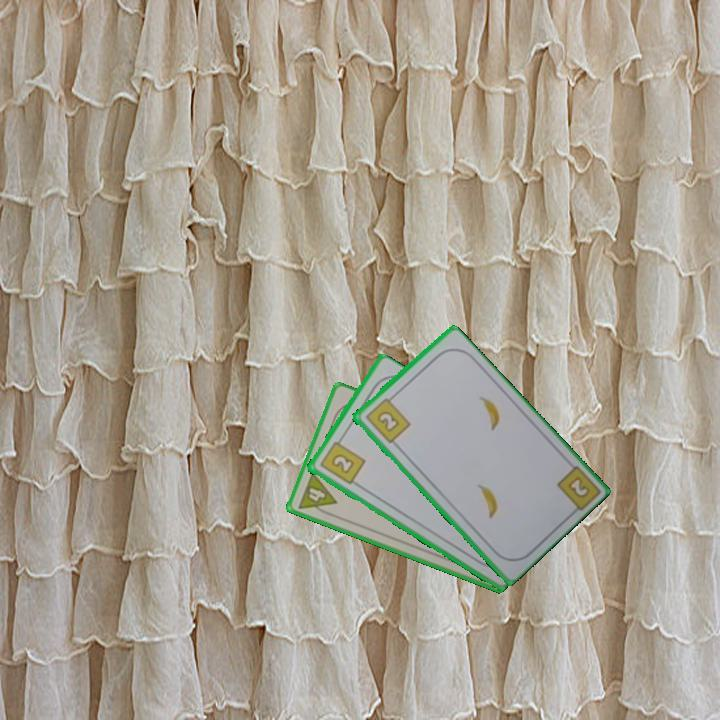2b: (362, 392, 413, 446), (316, 434, 367, 487), (564, 473, 592, 501)
4p: (294, 468, 340, 519)
